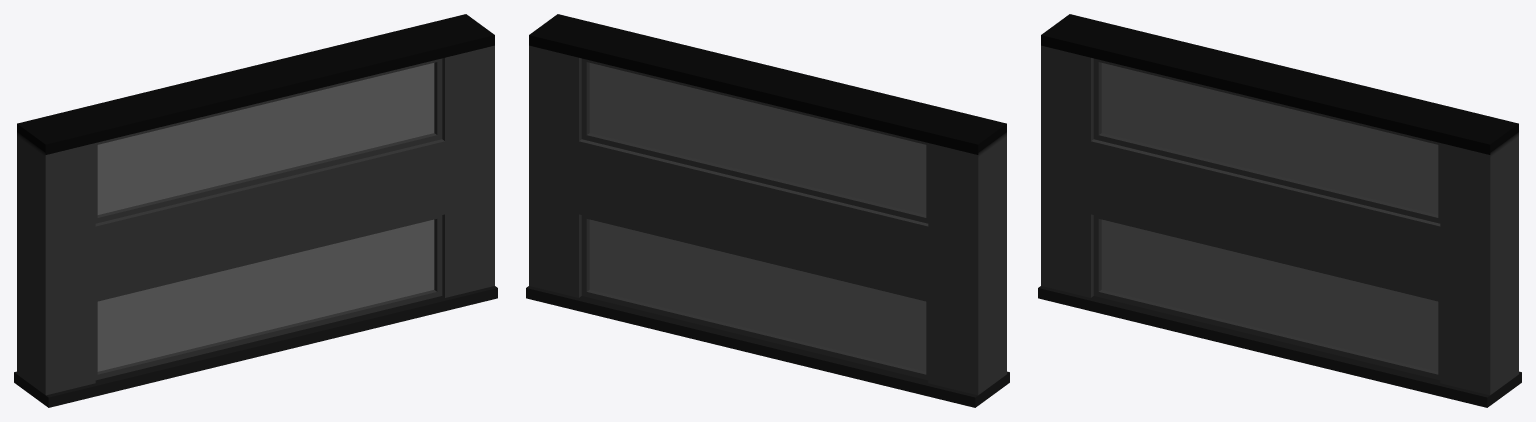
Rendered from Wall-Stone-Model-06.fbx.
3 views of the same model, side by side, from view 1: azimuth 30°, elevation 25°; view 2: azimuth 150°, elevation 25°; view 3: azimuth 330°, elevation 25° (orthographic).
Visible parts, largest first — view 1: Wall-Stone-Model-06; view 2: Wall-Stone-Model-06; view 3: Wall-Stone-Model-06.
Part boxes in pixels (<box>): Wall-Stone-Model-06: <box>14,14,497,407</box>; Wall-Stone-Model-06: <box>526,14,1009,407</box>; Wall-Stone-Model-06: <box>1038,14,1521,407</box>.
Bounding box in the file's own units: 90 × 50 × 12.
Materials: 1 (1 with a texture image).
